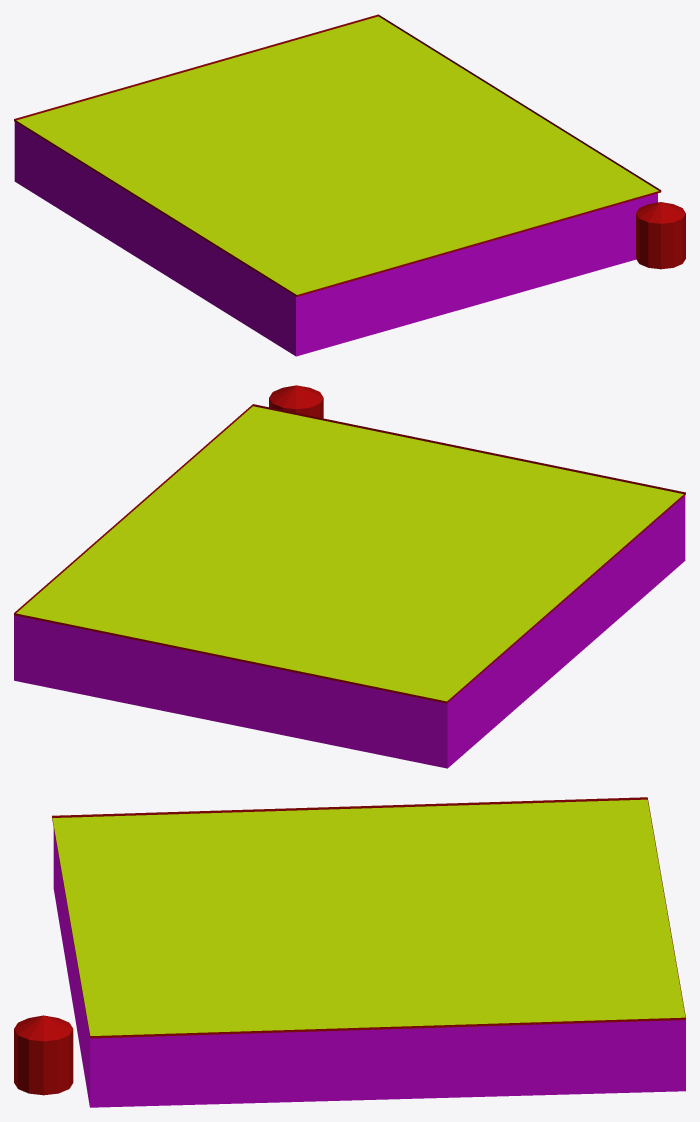
File: logistique_rose.glb
3 renders of one model, top to bottom at view 1: azimuth 30°, elevation 25°; view 2: azimuth 150°, elevation 25°; view 3: azimuth 270°, elevation 25°, orthographic. The views are drawn at different scales.
Visible parts, largest first — view 1: logistique_rose; view 2: logistique_rose; view 3: logistique_rose.
Part boxes in pixels (left/top/right/bottom): logistique_rose: left=14, top=14, right=685, bottom=356; logistique_rose: left=14, top=385, right=685, bottom=768; logistique_rose: left=14, top=797, right=685, bottom=1107.
Size of the model in its own units: 76.41 by 12.29 by 90.48.
